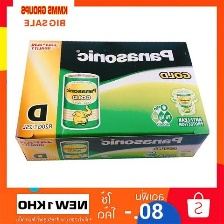book: (10, 35, 210, 166)
